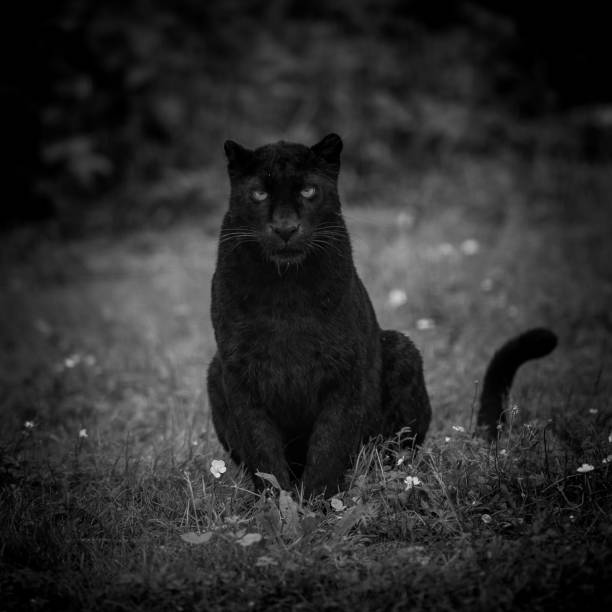panther: (215, 128, 355, 282)
